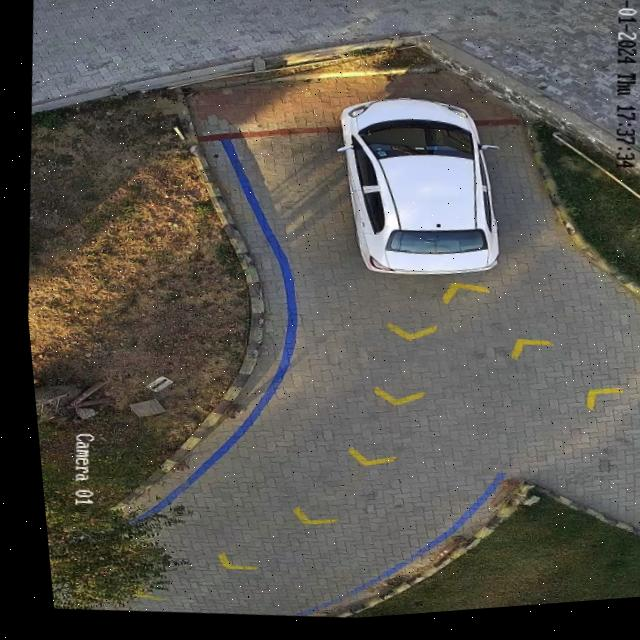car: (336, 105, 492, 280)
